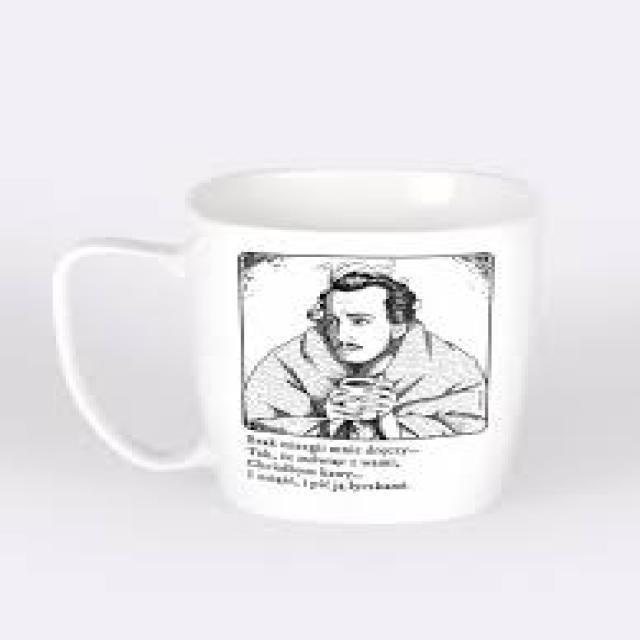taza: (39, 156, 560, 538)
